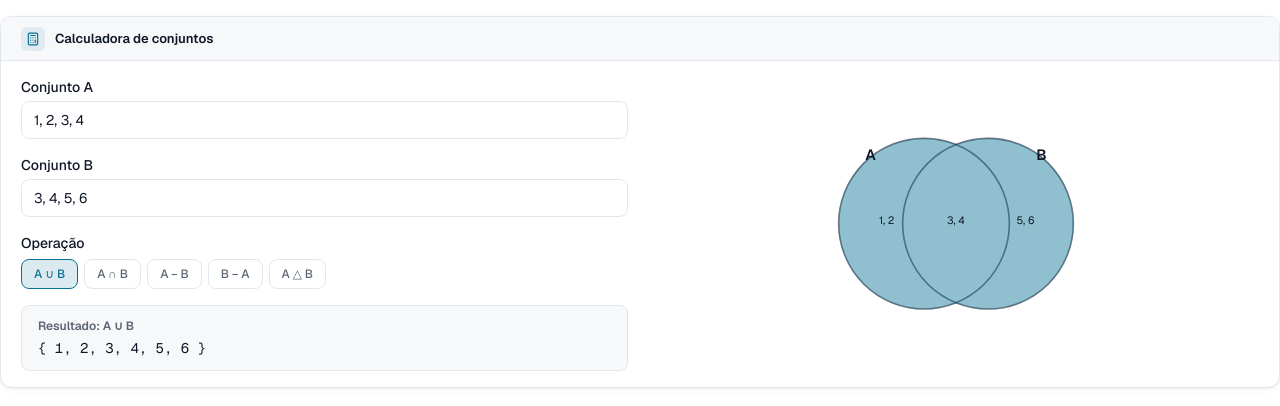
Test: SetCalculator › recomputes when switching operations
The image size is (1280, 406).
Click the button "A ∩ B" at [113, 274], box [84,259,141,289]
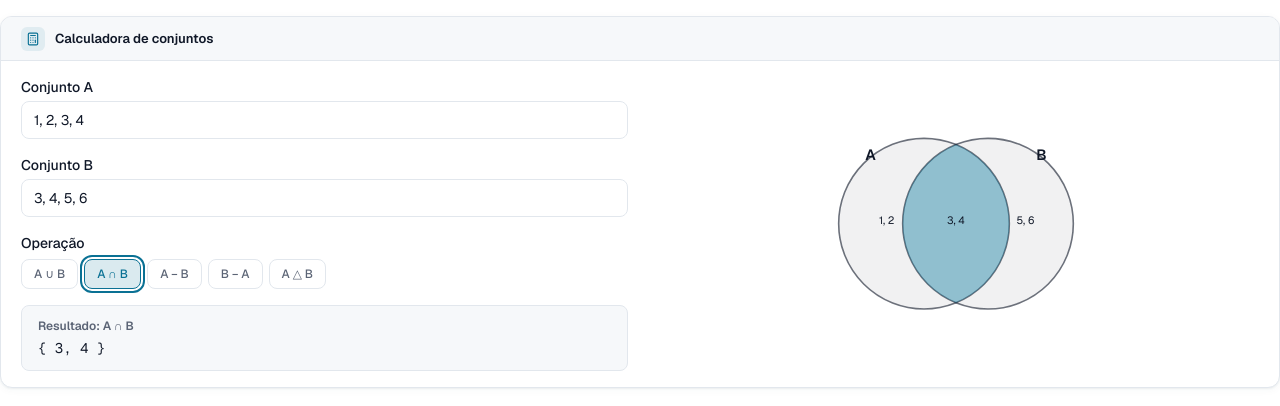
Check: the text "{ 3, 4 }" is shown, box [38,339,105,357]
Click the button "A − B" at [174, 274], box [147,259,202,289]
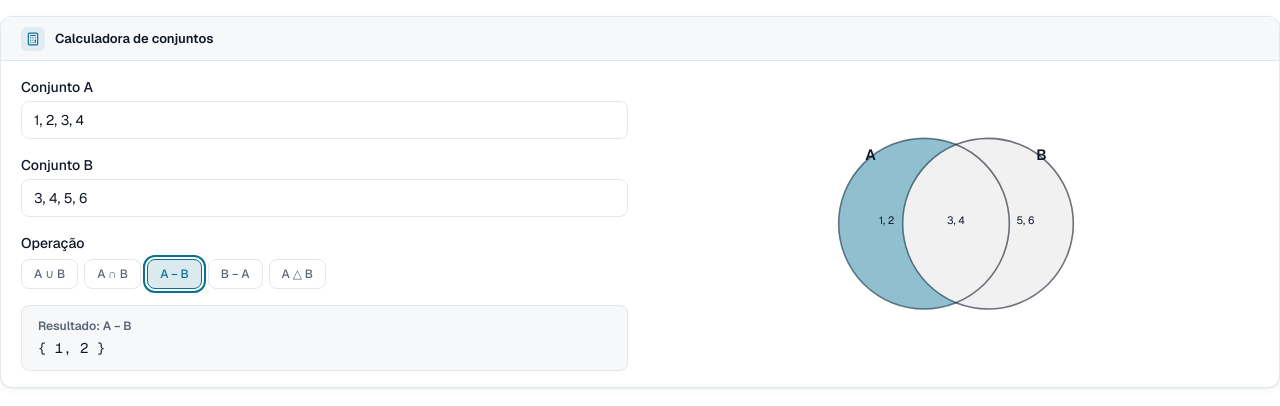
Check: the text "{ 1, 2 }" is shown, box [38,339,105,357]
Click the button "B − A" at [235, 274], box [208,259,262,289]
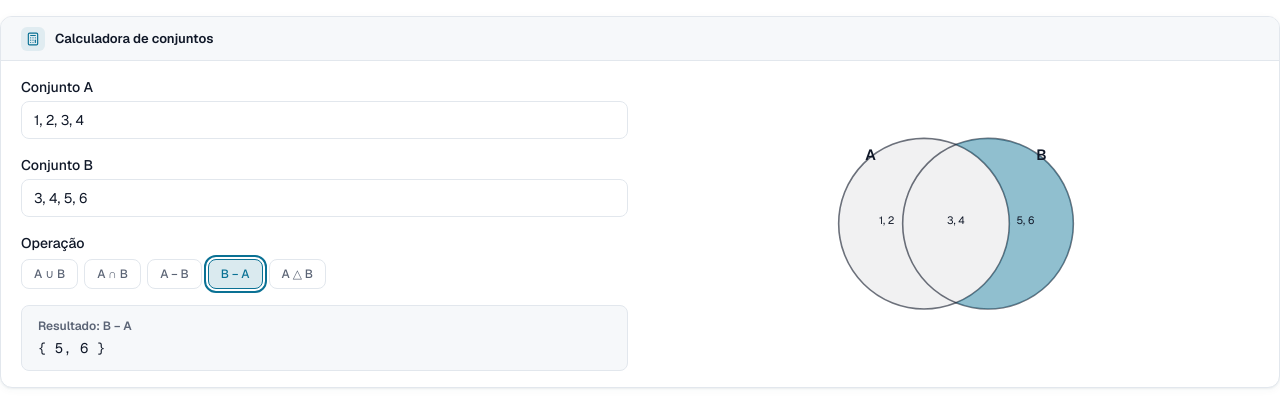
Check: the text "{ 5, 6 }" is shown, box [38,339,105,357]
Click the button "A △ B" at [297, 274], box [268,259,326,289]
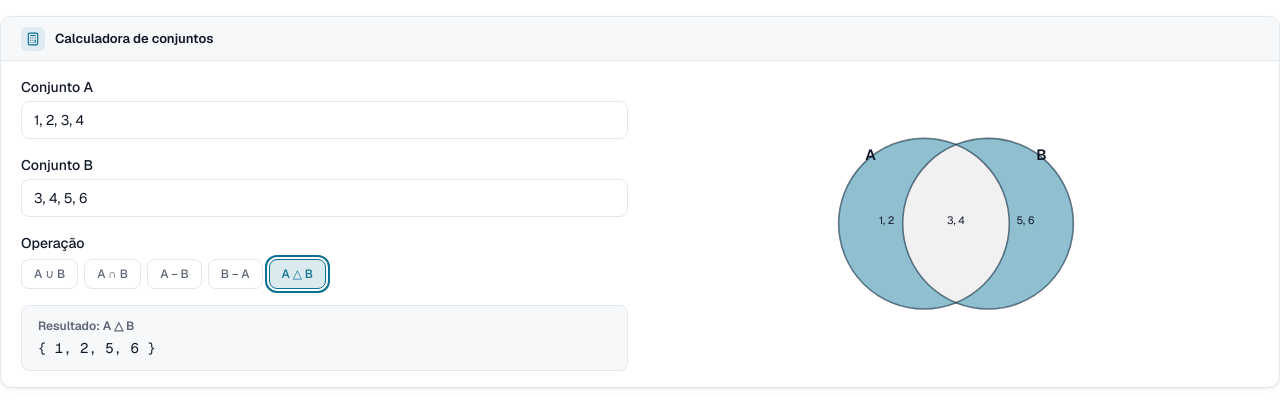
Check: the text "{ 1, 2, 5, 6 }" is shown, box [38,339,156,357]
